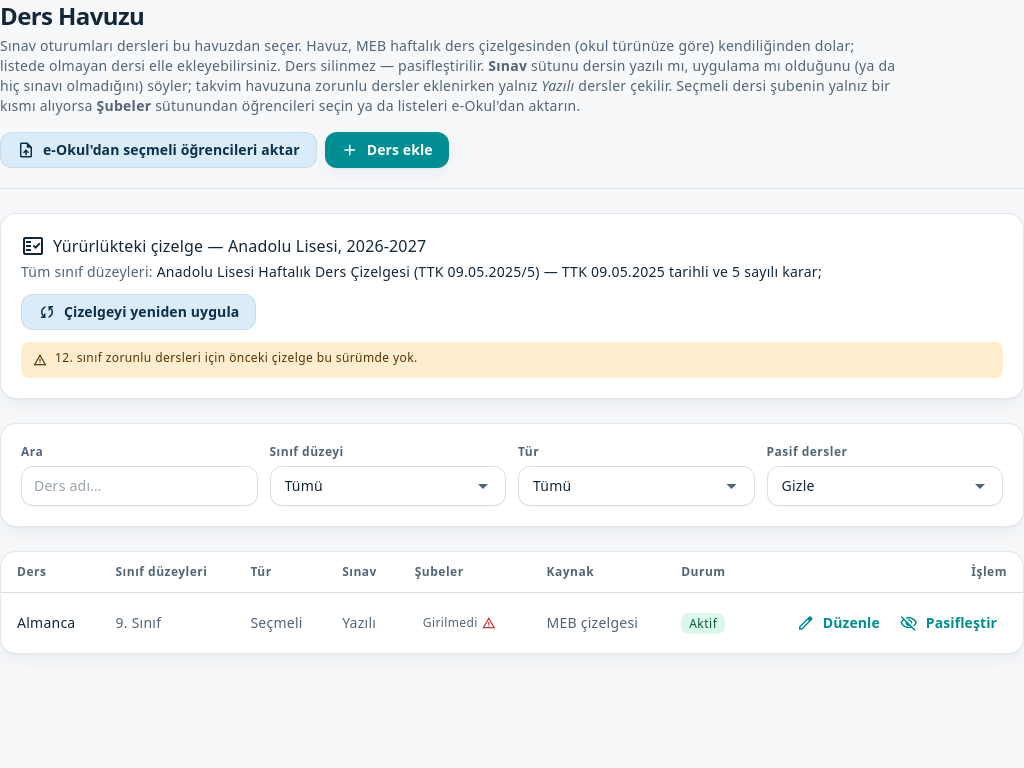
Test case: DersHavuzuPage › kayıtlı şubeler okunamazsa kaydetme kapalıdır (boş seçim var olan tanımı silmesin)
Click the button with aria-label "Almanca dersinin şubelerini düzenle".
click(459, 623)  # box [415,609,504,637]
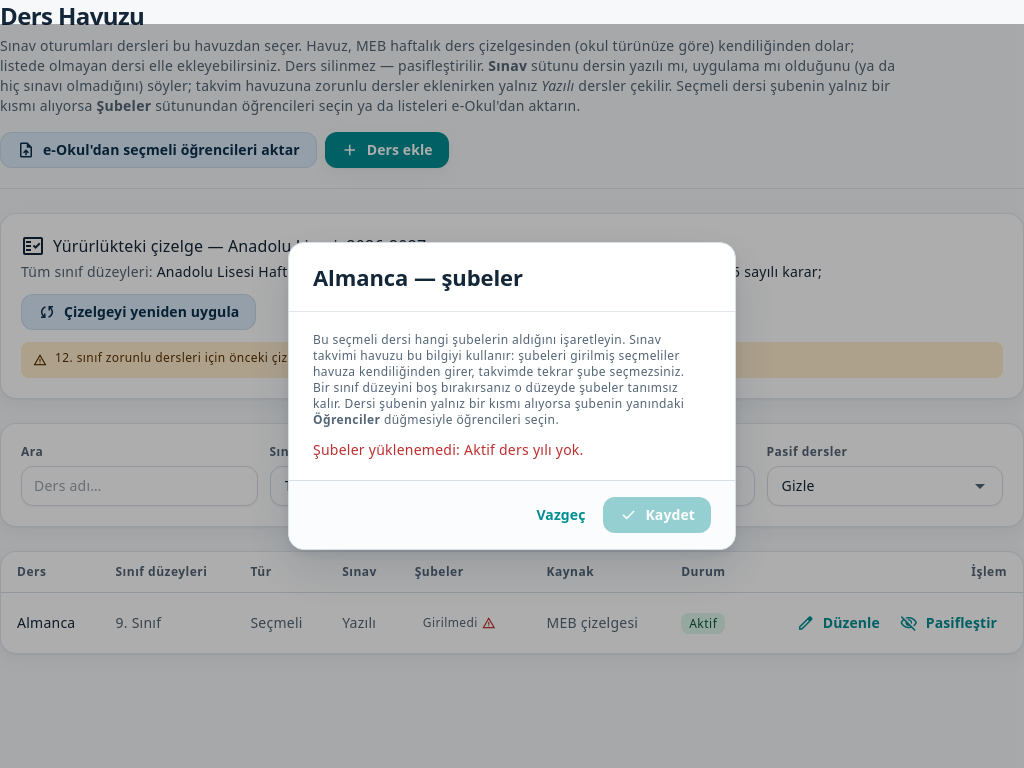
Expected: the message reads "Şubeler yüklenemedi: Aktif ders yılı yok.", [313,440,584,459]
Expected: the button "Kaydet" is disabled, [604,497,711,533]
